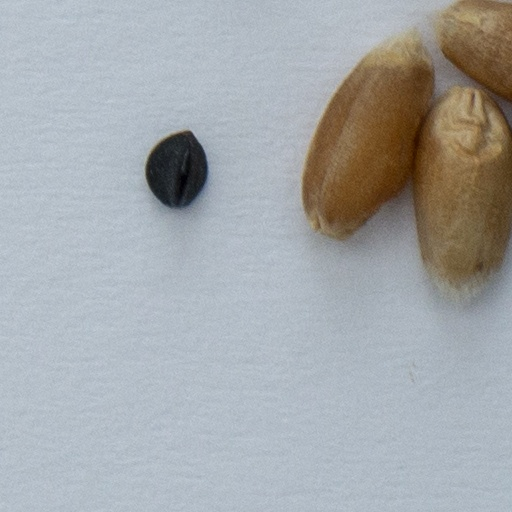Fallopia-Convolvulus-poly: (146, 131, 204, 207)
